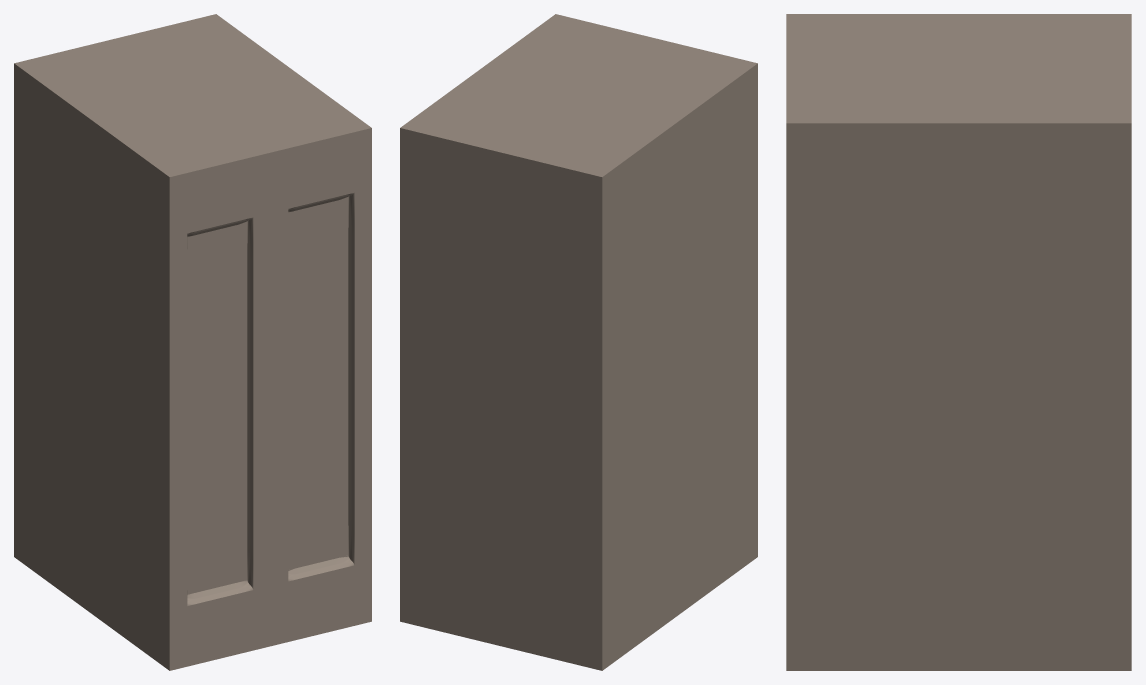
Rendered from Wall-Cabinet-21-High-12-Deep_std_001_W9in.glb.
3 views of the same model, side by side, from view 1: azimuth 30°, elevation 25°; view 2: azimuth 150°, elevation 25°; view 3: azimuth 270°, elevation 25° (orthographic). The views are drawn at different scales.
Visible parts, largest first — view 1: Wall-Cabinet-21-High-12-Deep.std.001_W9in; view 2: Wall-Cabinet-21-High-12-Deep.std.001_W9in; view 3: Wall-Cabinet-21-High-12-Deep.std.001_W9in.
Boxes of the visible parts, x1,y1,x2,y2 form: Wall-Cabinet-21-High-12-Deep.std.001_W9in: [14, 14, 371, 670]; Wall-Cabinet-21-High-12-Deep.std.001_W9in: [400, 14, 757, 670]; Wall-Cabinet-21-High-12-Deep.std.001_W9in: [786, 14, 1131, 670].
Bounding box in the file's own units: 0.2286 × 0.5334 × 0.3048.
